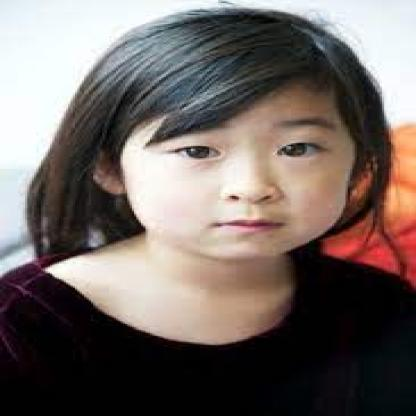person: (89, 25, 385, 255)
